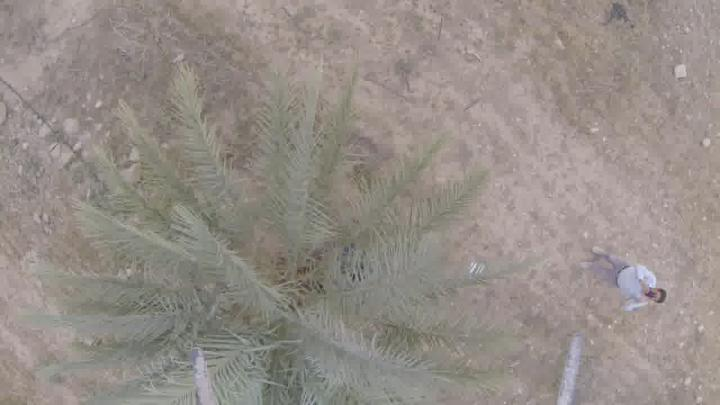Date-Palm-Crown: (130, 157, 402, 405)
